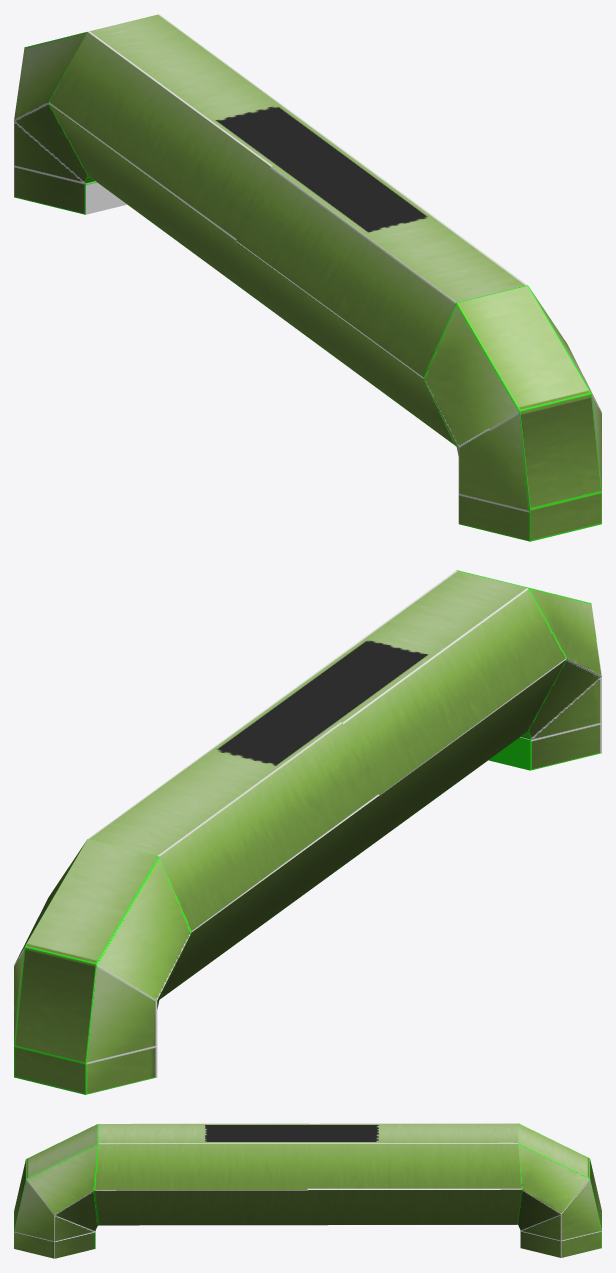
Rendered from WiretubeFixed.FBX.
3 views of the same model, one above another, from view 1: azimuth 30°, elevation 25°; view 2: azimuth 150°, elevation 25°; view 3: azimuth 270°, elevation 25° (orthographic). The views are drawn at different scales.
Visible parts, largest first — view 1: TubeWire; view 2: TubeWire; view 3: TubeWire.
Boxes of the visible parts, <box> form: TubeWire: <box>14,14,601,541</box>; TubeWire: <box>14,570,601,1094</box>; TubeWire: <box>14,1123,601,1258</box>.
Size of the model in its own units: 6.3 by 7.81 by 39.34.
Materials: 1 (1 with a texture image).
